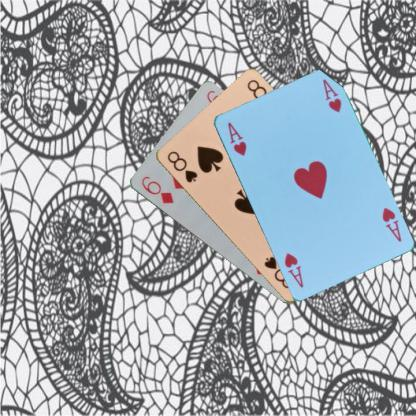6d: (138, 173, 175, 205)
8s: (164, 148, 199, 184)
Ah: (379, 205, 403, 243), (225, 120, 248, 157)
